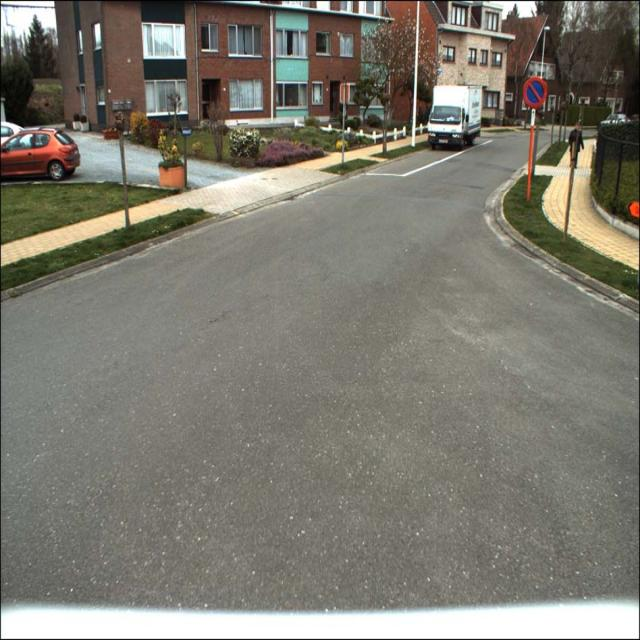parkyasak: (523, 77, 547, 107)
